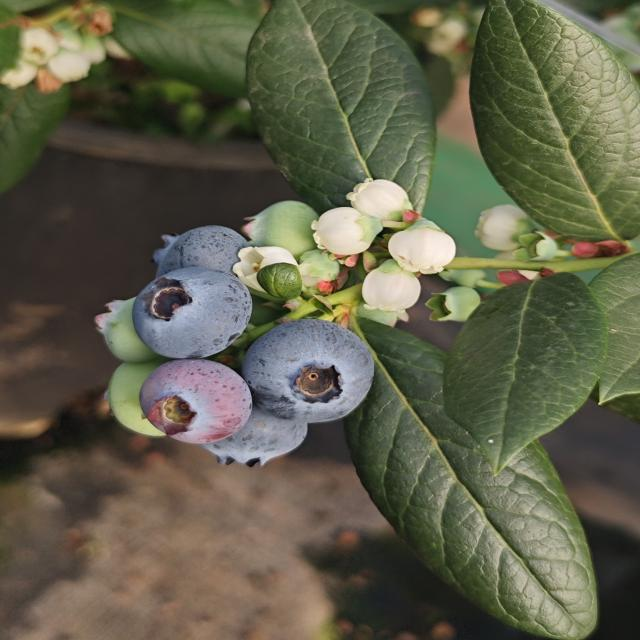ripe: (119, 261, 270, 363), (236, 322, 377, 416), (136, 355, 252, 446), (200, 399, 311, 475), (149, 220, 259, 288)
